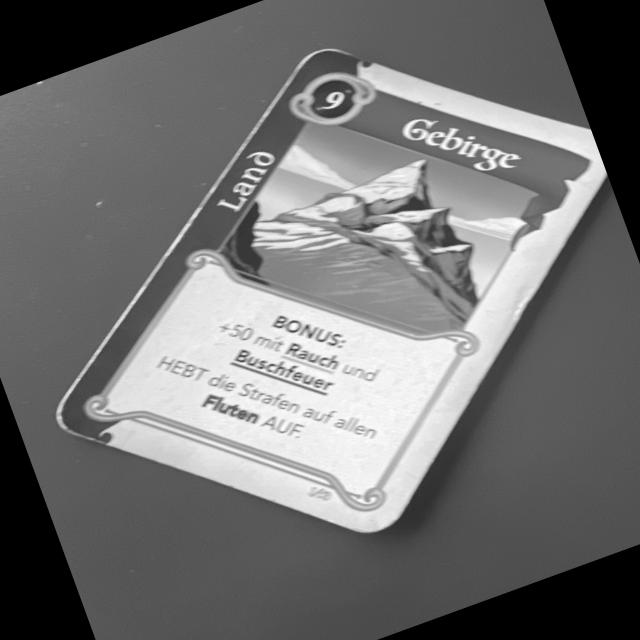Mountain: (48, 51, 605, 533)
